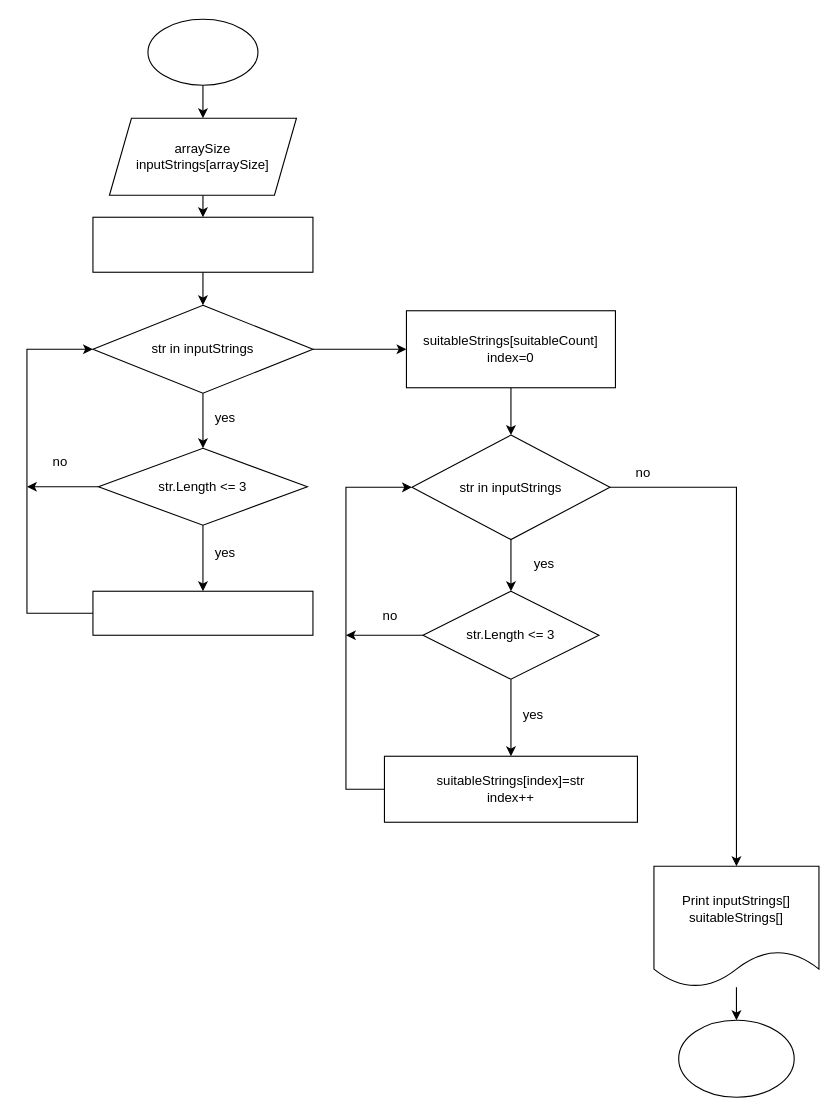
This 838x1117 diagram has some shape labels left out. Each missing label, with the centre of its shape:
"finish" goes at pixel 736 1058.
"Start" goes at pixel 202 51.
"suitableCount++" goes at pixel 202 612.
"suitableCount=0" goes at pixel 202 244.
